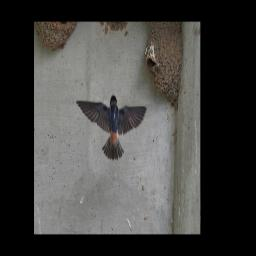Swallow: (74, 93, 147, 161)
